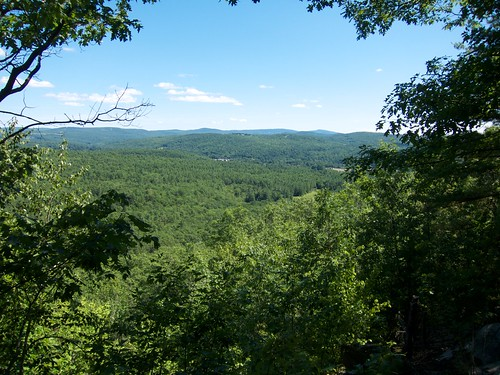sky: (7, 1, 500, 124)
vegetation: (1, 139, 500, 375)
